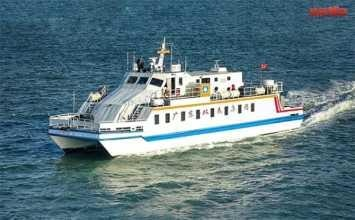otherboat: (44, 42, 311, 157)
